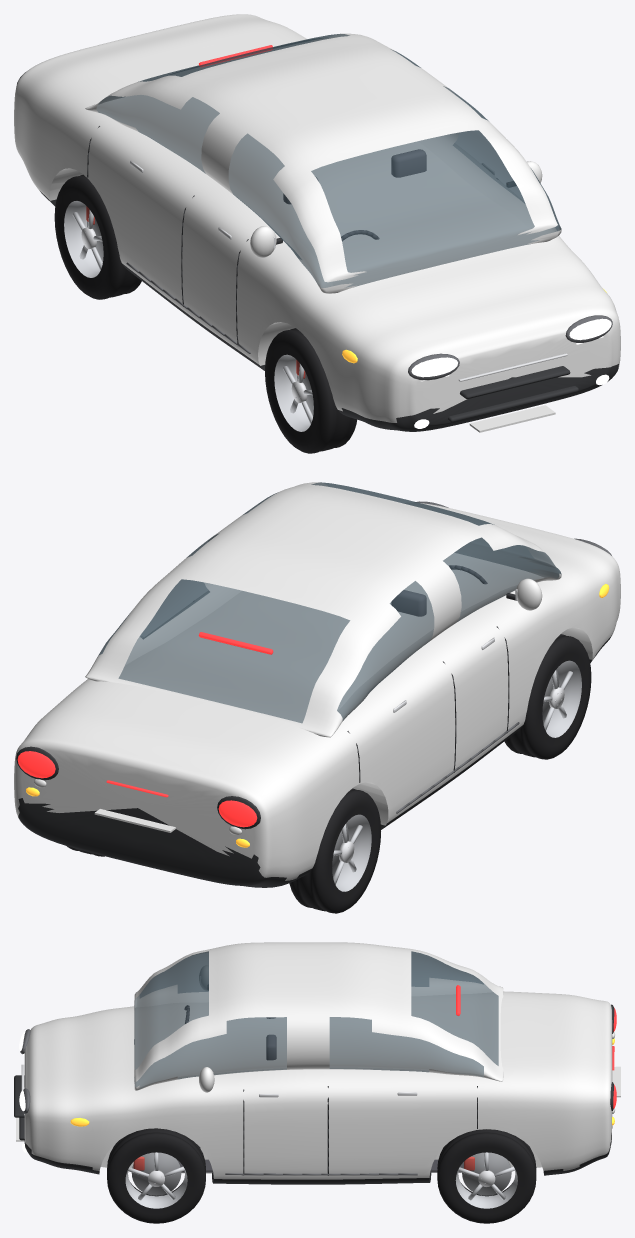
The model's file is voiture-suv-trafic.glb.
3 renders of one model, top to bottom at view 1: azimuth 30°, elevation 25°; view 2: azimuth 150°, elevation 25°; view 3: azimuth 270°, elevation 25°, orthographic. The views are drawn at different scales.
Visible parts, largest first — view 1: carrosserie, habitacle, roue_av_g_m, roue_ar_g_m, calandre, prise_air, plaque_av, appuie_tete.001, phare, retro, phare.001; view 2: carrosserie, habitacle, roue_ar_g_m, roue_av_g_m, feu_ar, feu_ar.001, appuie_tete, retro, plaque_ar; view 3: carrosserie, habitacle, roue_av_d_m, roue_ar_d_m, jonc.001.
Part boxes in pixels (box(x1,y1,x2,y2)): carrosserie: box(14, 14, 620, 431); habitacle: box(85, 33, 561, 293); roue_av_g_m: box(265, 328, 356, 453); roue_ar_g_m: box(54, 174, 141, 299); calandre: box(460, 366, 570, 398); prise_air: box(448, 386, 578, 422); plaque_av: box(469, 405, 555, 432); appuie_tete.001: box(391, 149, 426, 177); phare: box(411, 357, 457, 377); retro: box(250, 226, 276, 257); phare.001: box(569, 318, 611, 340); carrosserie: box(14, 503, 620, 887); habitacle: box(85, 482, 561, 737); roue_ar_g_m: box(289, 788, 380, 913); roue_av_g_m: box(504, 634, 591, 759); feu_ar: box(218, 800, 257, 827); feu_ar.001: box(17, 751, 55, 778); appuie_tete: box(391, 590, 426, 616); retro: box(516, 578, 542, 610); plaque_ar: box(94, 809, 175, 832); carrosserie: box(24, 991, 612, 1184); habitacle: box(134, 942, 503, 1090); roue_av_d_m: box(107, 1128, 205, 1223); roue_ar_d_m: box(437, 1129, 536, 1223); jonc.001: box(225, 1173, 417, 1175).
Size of the model in its own units: 1.99 by 1.69 by 4.59.
